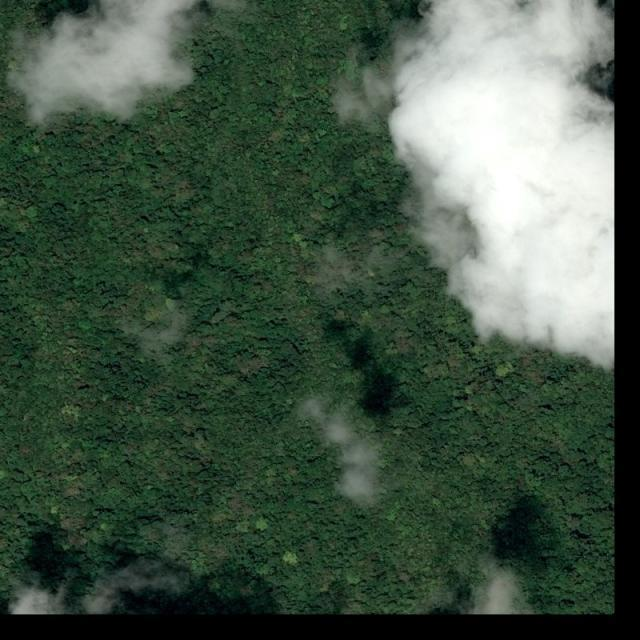ship: (419, 9, 428, 18)
